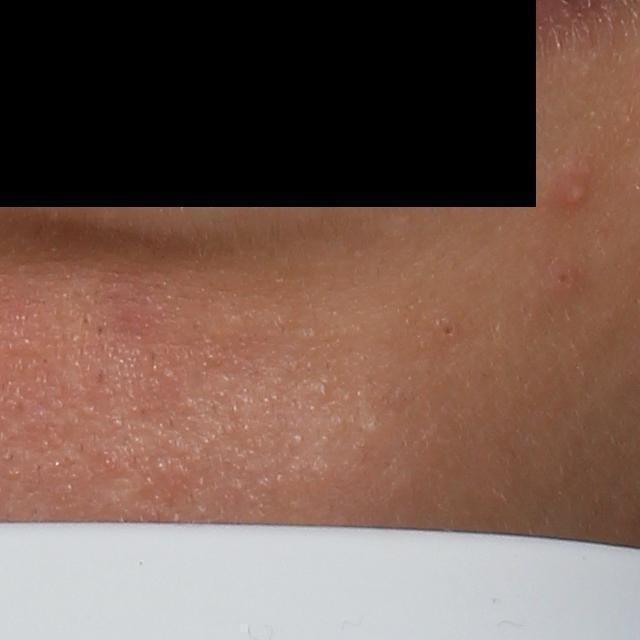comedo: (437, 315, 460, 343)
papule: (543, 257, 587, 302)
